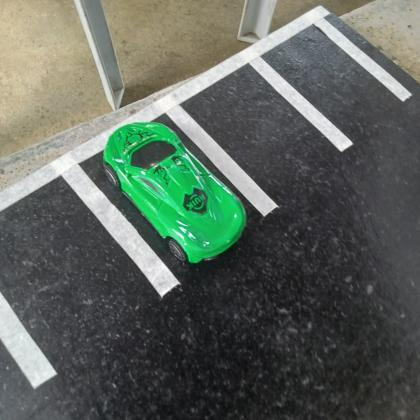Car: (104, 121, 248, 264)
